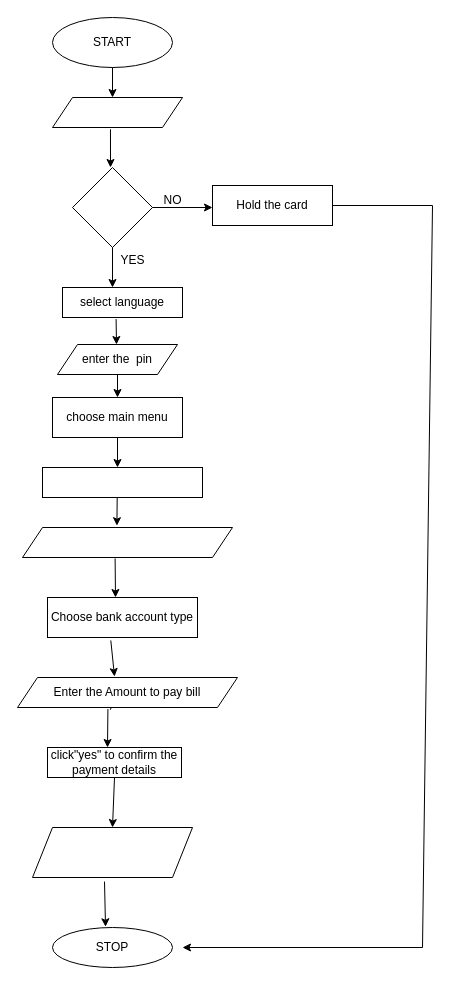
The diagram is 458 pixels wide and 985 high, and some of its shapes have lost their labels. Each missing label, with the box of its shape:
Enter Transaction Amount: (22, 526, 232, 558)
finally you receive confirmation messege to register mobile number: (32, 826, 192, 878)
Inser ATM card: (52, 96, 182, 128)
is card valid ?: (72, 166, 152, 248)
select "pay bills": (42, 466, 202, 498)
